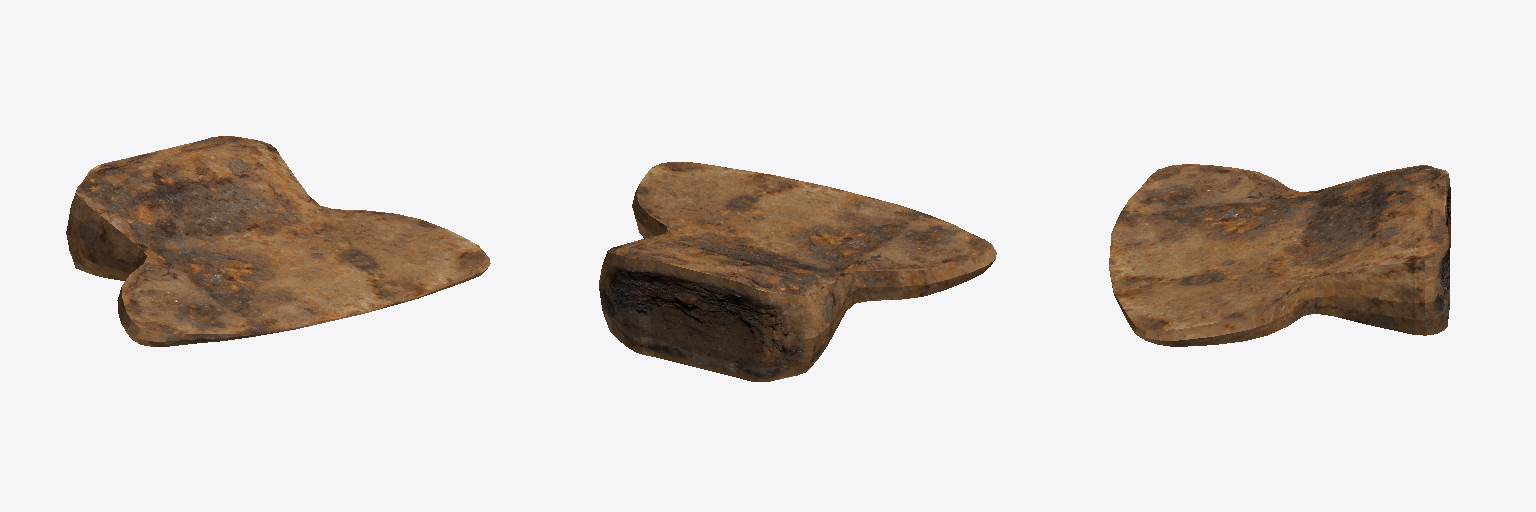
3 renders of one model, left to right at view 1: azimuth 30°, elevation 25°; view 2: azimuth 150°, elevation 25°; view 3: azimuth 270°, elevation 25°, orthographic.
Visible parts, largest first — view 1: pCube3; view 2: pCube3; view 3: pCube3.
Part boxes in pixels (left/top/right/bottom): pCube3: left=66, top=136, right=490, bottom=346; pCube3: left=599, top=162, right=996, bottom=381; pCube3: left=1109, top=164, right=1450, bottom=346.
Size of the model in its own units: 15.81 by 4.18 by 13.44.
1 materials, 1 textured.